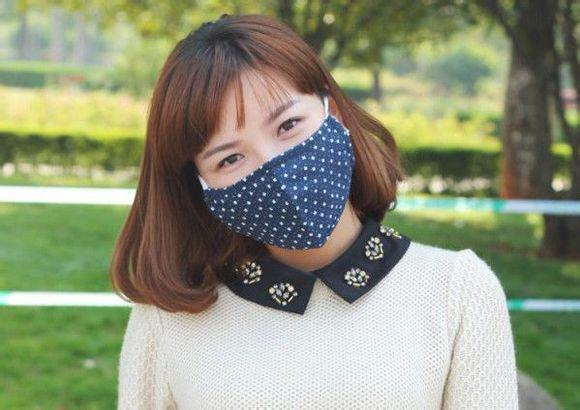OK: (195, 85, 357, 251)
